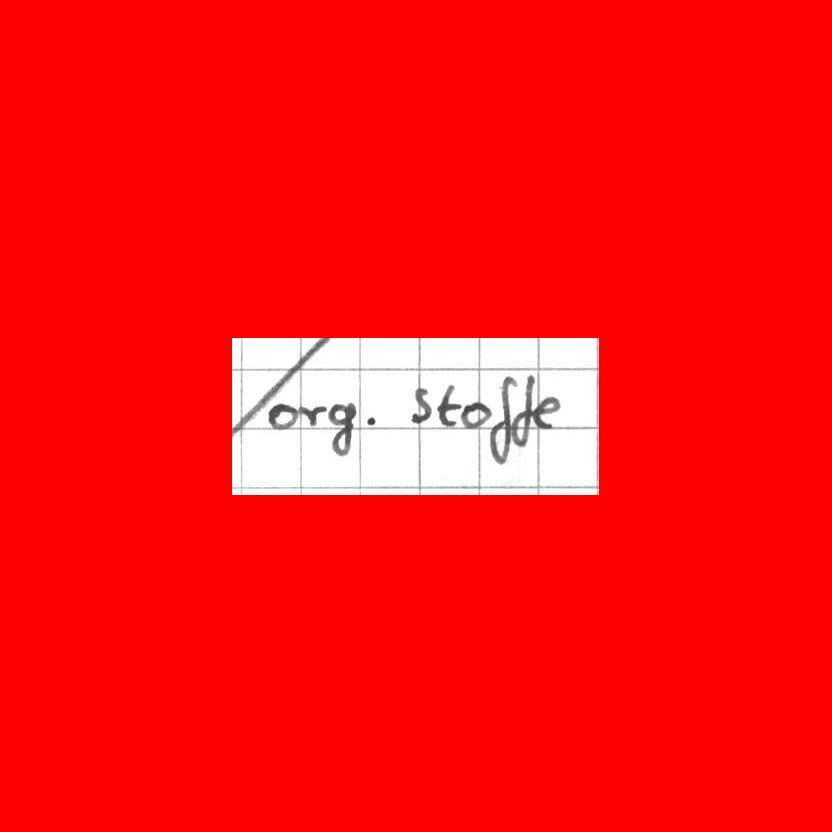Char: (487, 373, 517, 469), (515, 374, 537, 448), (327, 402, 356, 455), (434, 383, 460, 427), (267, 401, 300, 433), (530, 394, 559, 430), (458, 400, 492, 430), (409, 385, 433, 424), (298, 404, 328, 426), (364, 412, 378, 428)
